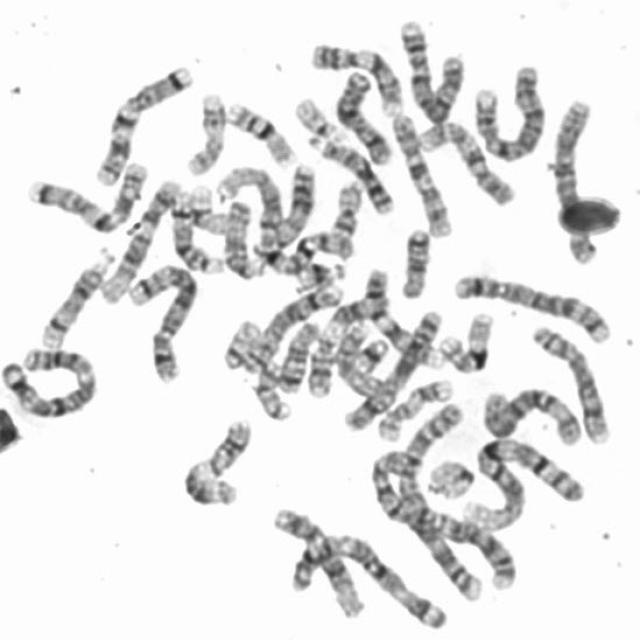A1: (208, 159, 356, 278), (462, 434, 586, 532)
A2: (366, 445, 518, 593), (374, 426, 492, 603)
A3: (282, 526, 452, 633), (0, 342, 100, 421)
B4: (467, 60, 548, 164), (397, 15, 468, 127)
B5: (449, 270, 612, 347), (122, 257, 200, 387)
C10: (413, 115, 521, 209), (386, 108, 456, 240)
C11: (298, 283, 389, 398), (177, 412, 257, 508)
C12: (93, 172, 184, 307), (267, 503, 367, 622)
C6: (547, 94, 599, 265), (478, 382, 585, 447)
C7: (90, 60, 198, 189), (23, 159, 148, 236)
C8: (526, 317, 614, 446), (234, 278, 348, 376)
C9: (361, 263, 448, 370), (305, 35, 407, 117)
D13: (304, 130, 396, 217), (271, 161, 317, 250)
D14: (34, 242, 118, 352), (165, 194, 228, 277)
D15: (219, 194, 269, 284), (332, 320, 384, 399)
E16: (222, 97, 298, 168), (434, 307, 494, 375)
E17: (373, 373, 454, 442), (182, 86, 230, 178)
E18: (272, 314, 324, 398), (395, 223, 433, 301)
F19: (183, 181, 232, 236), (426, 457, 476, 501)
F20: (252, 352, 295, 422), (329, 178, 365, 240)
G21: (288, 256, 347, 294), (347, 333, 392, 377)
G22: (291, 94, 344, 144), (220, 319, 265, 370)
X: (338, 304, 444, 432), (330, 63, 394, 166)
